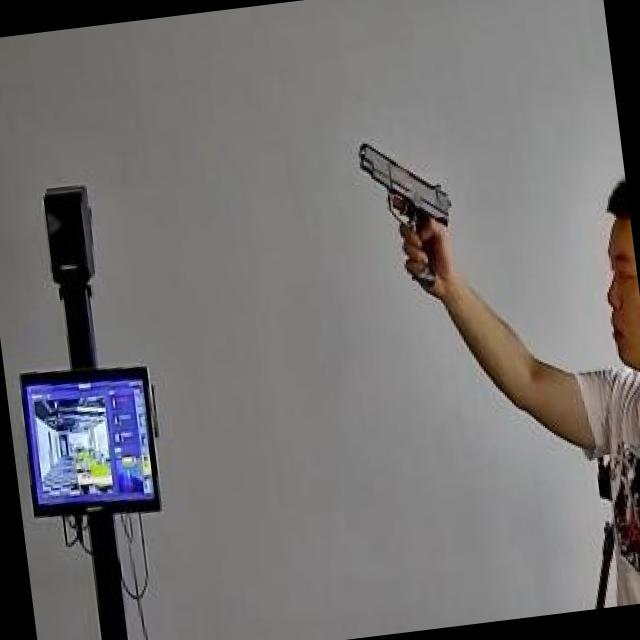Guns: (342, 117, 480, 302)
